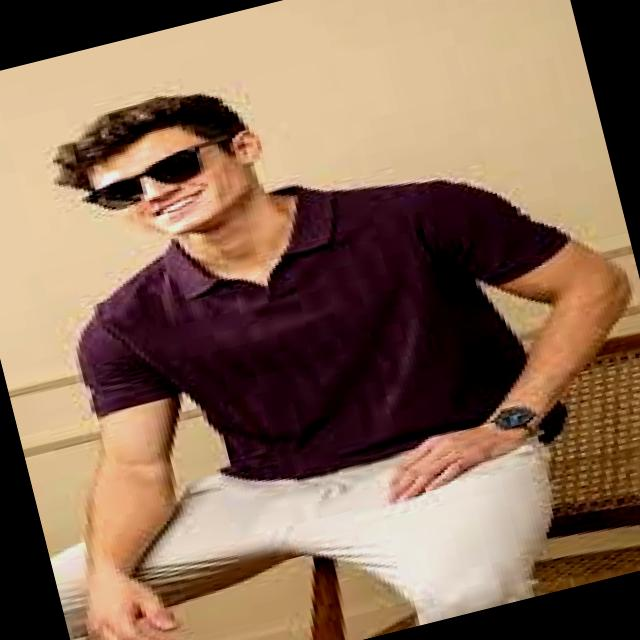face: (125, 130, 261, 237)
lower-wear: (136, 439, 552, 624)
top-wear: (78, 181, 568, 480)
